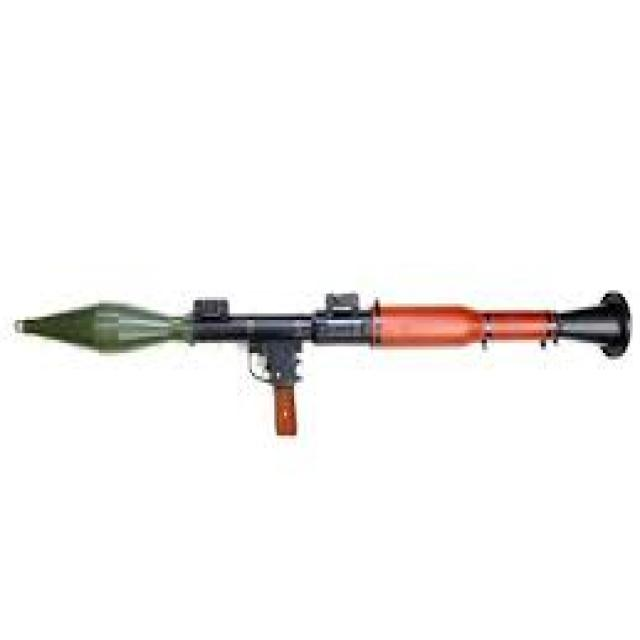bazooka: (5, 262, 634, 434)
